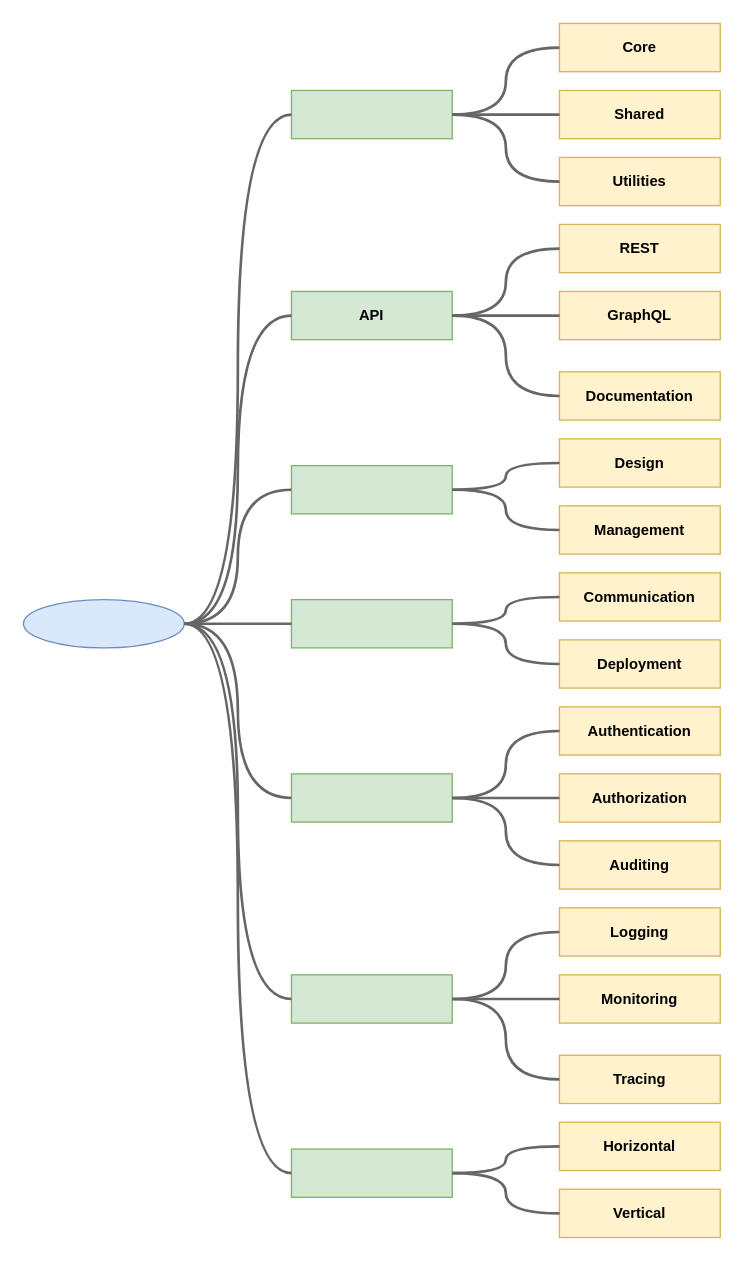
The diagram is 744 pixels wide and 1261 high, and some of its shapes have lost their labels. The shapes that lost their labels are listed below. From the top down, each one's box as (x1, y1, x2, y2) in pixels, then its label:
(290, 89, 452, 139): Modules
(290, 464, 452, 514): Database
(22, 598, 184, 648): Software Architecture Planning
(290, 598, 452, 648): Microservices
(290, 773, 452, 822): Security
(290, 974, 452, 1023): Observability
(290, 1148, 452, 1197): Scalability
